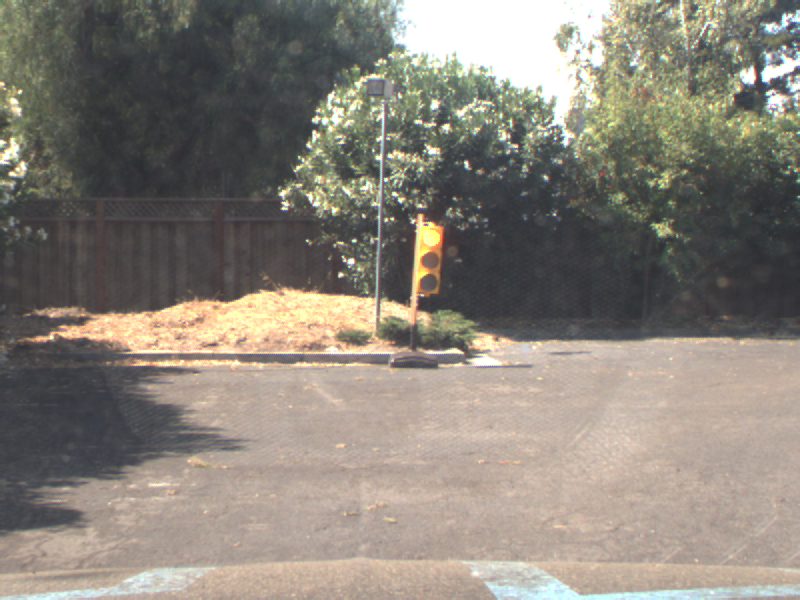red: (413, 212, 441, 295)
